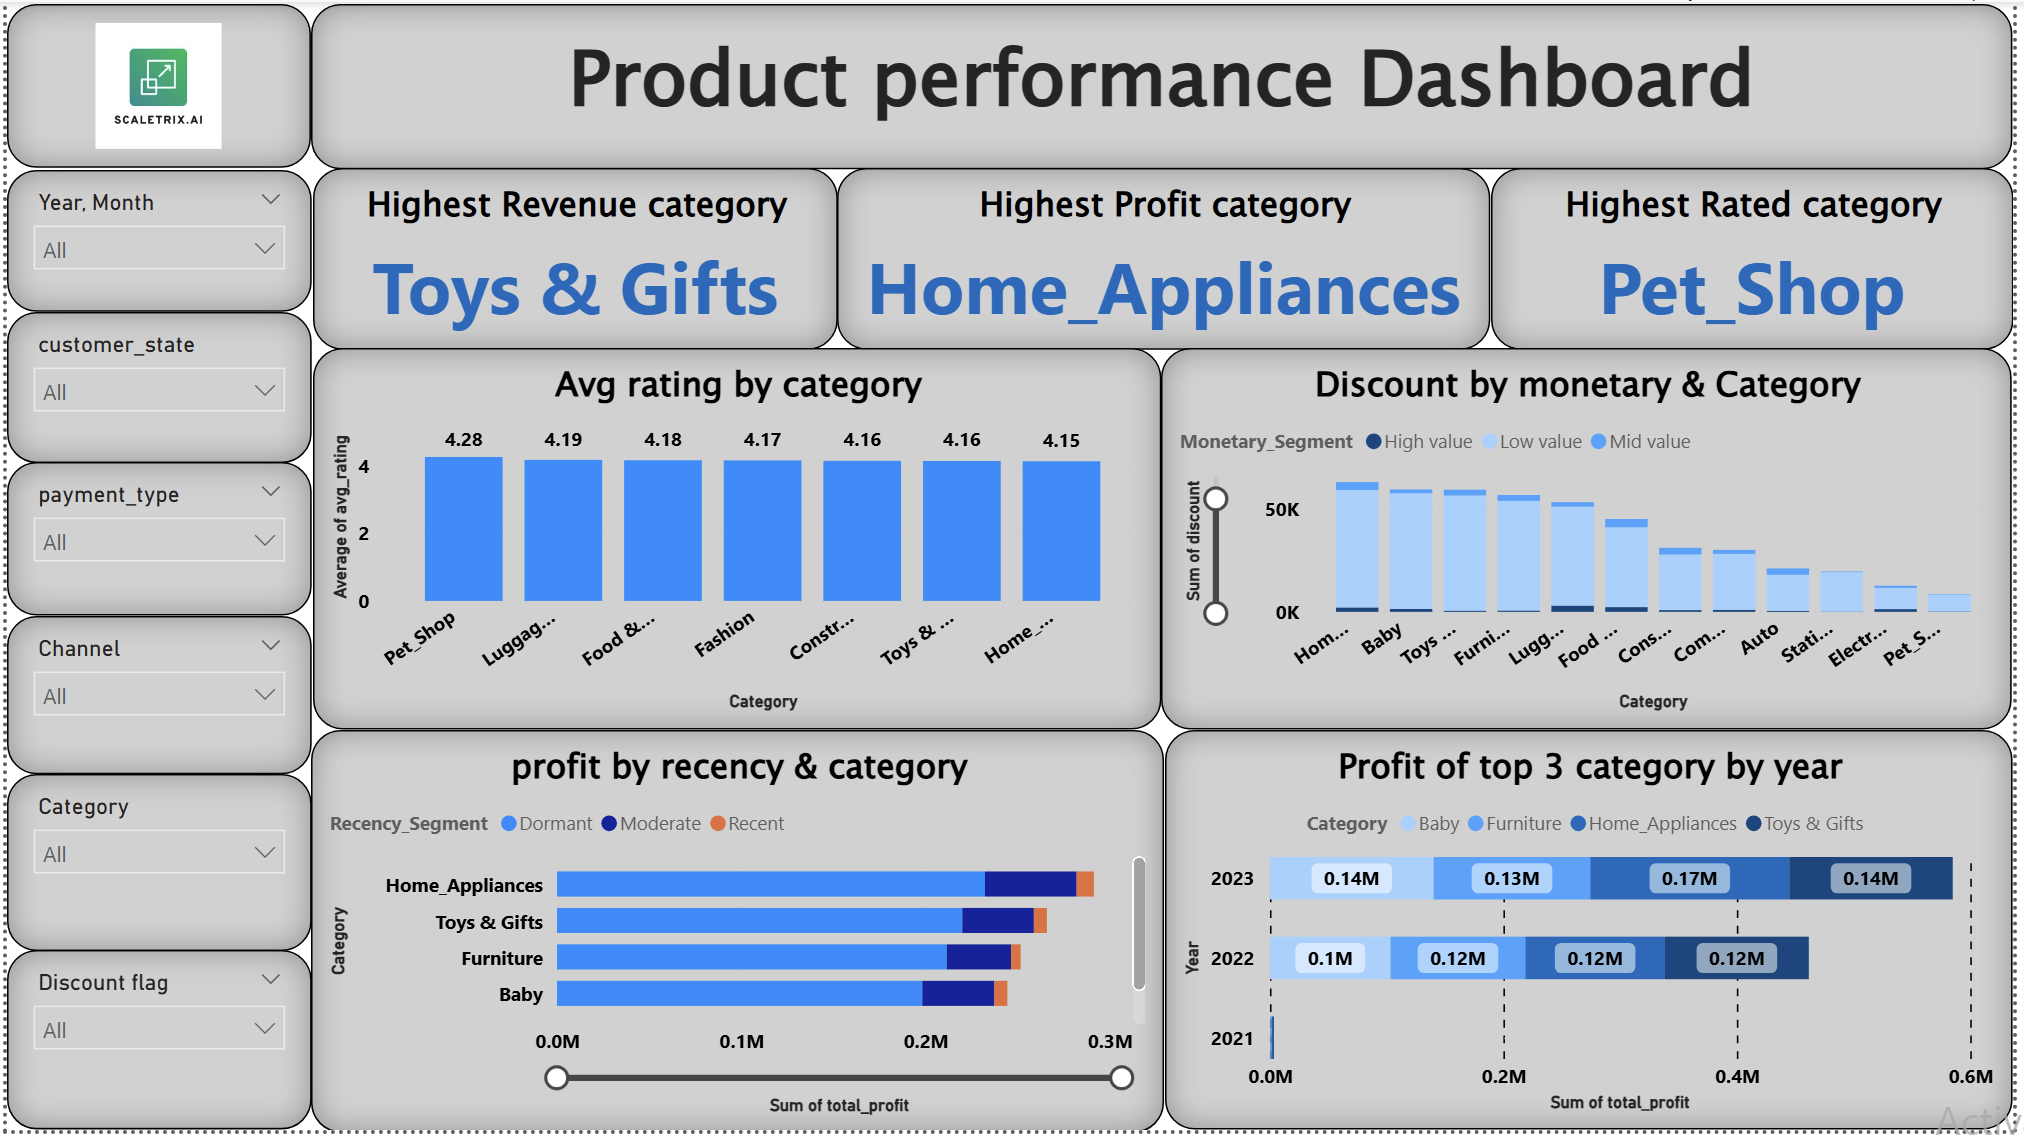

The dashboard page shown, as its layout file describes it:
{"tool":"powerbi","page":{"name":"Product dash","canvas":[1280,720],"ordinal":3},"visuals":[{"type":"image","box":[0,1.6,193.8,104.7],"z":0},{"type":"textbox","box":[194.3,1.5,1086,105.4],"z":1000},{"type":"slicer","fields":{"Values":["Customer360new.customer_state"]},"box":[0,197.3,194.3,96.4],"z":2000},{"type":"slicer","fields":{"Values":["Order360new.payment_type"]},"box":[0,293.7,194.3,97.9],"z":3000},{"type":"slicer","fields":{"Values":["Order360new.Channel"]},"box":[0,391.6,194.3,100.9],"z":4000},{"type":"slicer","fields":{"Values":["Productsinfo.Category"]},"box":[0,492.6,194.3,113],"z":5000},{"type":"slicer","fields":{"Values":["Order360new.order_date.Variation.Date Hierarchy.Year","Order360new.order_date.Variation.Date Hierarchy.Month"]},"box":[0,106.9,194.3,90.4],"z":6000},{"type":"card","title":"Highest Revenue category","fields":{"Values":["Min(Productsinfo.Category)"]},"box":[194.8,106.3,334.9,115.9],"z":7000},{"type":"card","title":"Highest Profit category","fields":{"Values":["Min(Productsinfo.Category)"]},"box":[529.7,106.3,417,115.9],"z":8000},{"type":"card","title":"Highest Rated category","fields":{"Values":["Min(Productsinfo.Category)"]},"box":[946.7,106.3,333.3,115.9],"z":9000},{"type":"barChart","title":"profit by recency & category","fields":{"Category":["Productsinfo.Category"],"Y":["Sum(Customer360new.total_profit)"],"Series":["Customer360new.Recency_Segment"]},"box":[194,464.7,544.7,257],"z":10000},{"type":"columnChart","title":"Discount by monetary & Category","fields":{"Category":["Productsinfo.Category"],"Y":["Sum(Order360new.discount)"],"Series":["Customer360new.Monetary_Segment"]},"box":[737,221.3,543,243.4],"z":11000},{"type":"slicer","fields":{"Values":["Customer360new.Discount flag"]},"box":[0,605.5,194.3,114.5],"z":12000},{"type":"barChart","title":"Profit of top 3 category  by year","fields":{"Category":["Order360new.order_date.Variation.Date Hierarchy.Year"],"Y":["Sum(Order360new.total_profit)"],"Series":["Productsinfo.Category"]},"box":[739,465,541,255],"z":13000},{"type":"columnChart","title":"Avg rating by category","fields":{"Category":["Productsinfo.Category"],"Y":["Avg(Order360new.avg_rating)"]},"box":[195.7,221.3,541.3,243.4],"z":14000}]}

Visuals, with their boxes in screenshot pixels (x1, y1, x2, y2), scaled from the page's 1280x720 canvas onto the 2024x1138 screenshot:
image: (0, 3, 306, 168)
textbox: (307, 2, 2023, 169)
slicer - Customer360new.customer_state: (0, 312, 307, 464)
slicer - Order360new.payment_type: (0, 464, 307, 619)
slicer - Order360new.Channel: (0, 619, 307, 778)
slicer - Productsinfo.Category: (0, 779, 307, 957)
slicer - Order360new.order_date.Variation.Date Hierarchy.Year x Order360new.order_date.Variation.Date Hierarchy.Month: (0, 169, 307, 312)
"Highest Revenue category" card: (308, 168, 838, 351)
"Highest Profit category" card: (838, 168, 1497, 351)
"Highest Rated category" card: (1497, 168, 2023, 351)
"profit by recency & category" barChart: (307, 734, 1168, 1137)
"Discount by monetary & Category" columnChart: (1165, 350, 2023, 734)
slicer - Customer360new.Discount flag: (0, 957, 307, 1137)
"Profit of top 3 category  by year" barChart: (1169, 735, 2023, 1137)
"Avg rating by category" columnChart: (309, 350, 1165, 734)
